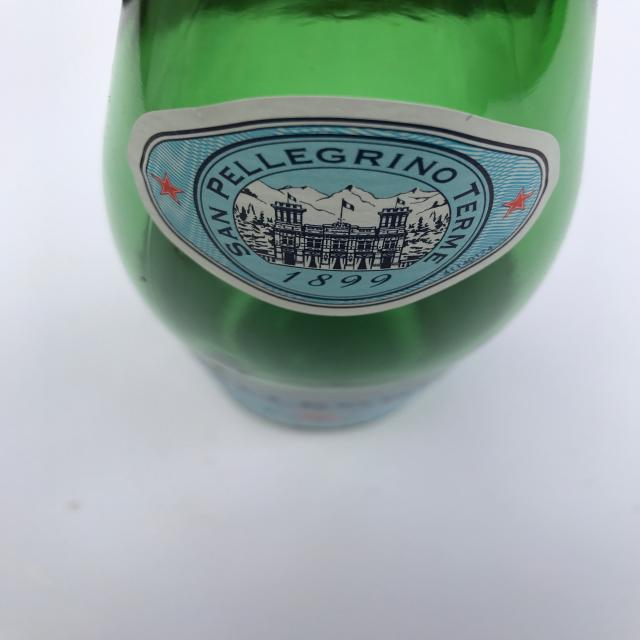glass: (101, 0, 598, 431)
